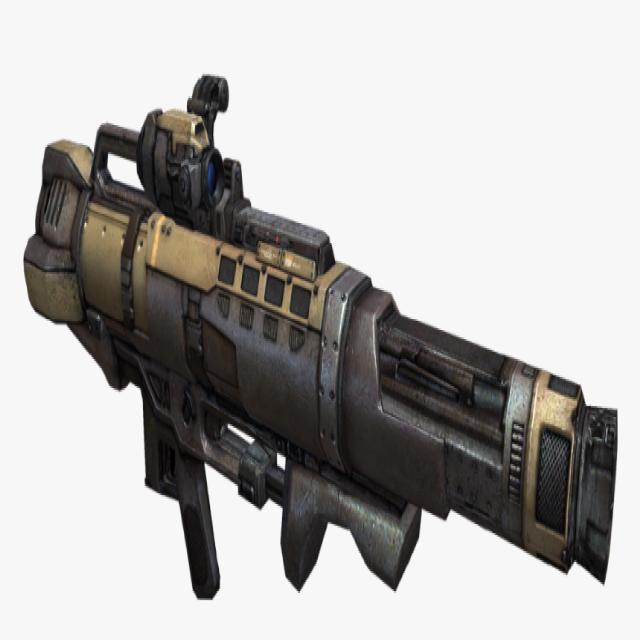bazooka: (12, 8, 640, 638)
